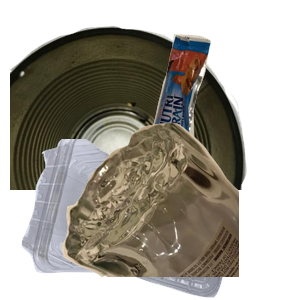glass: (60, 120, 300, 300)
metal: (10, 23, 250, 203)
plastic: (19, 139, 249, 300)
trash: (149, 31, 300, 179)
